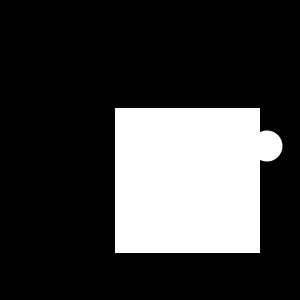circle: (115, 108, 260, 253)
rectangle: (252, 131, 282, 162)
